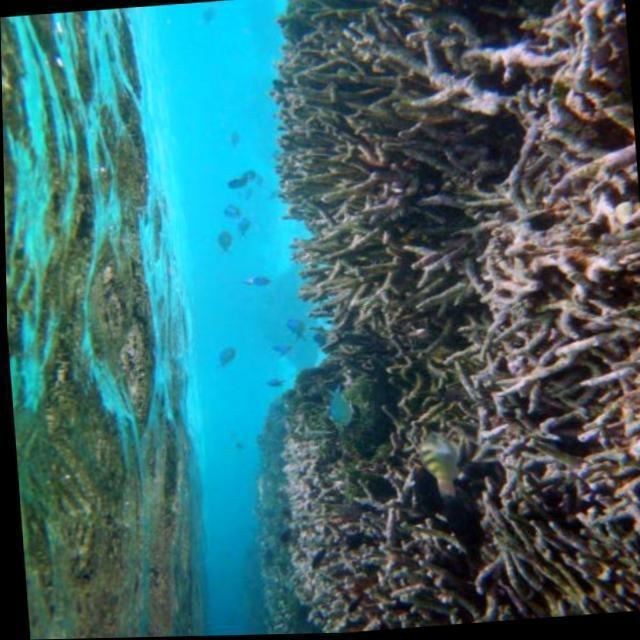Dead Coral: (254, 0, 640, 636)
